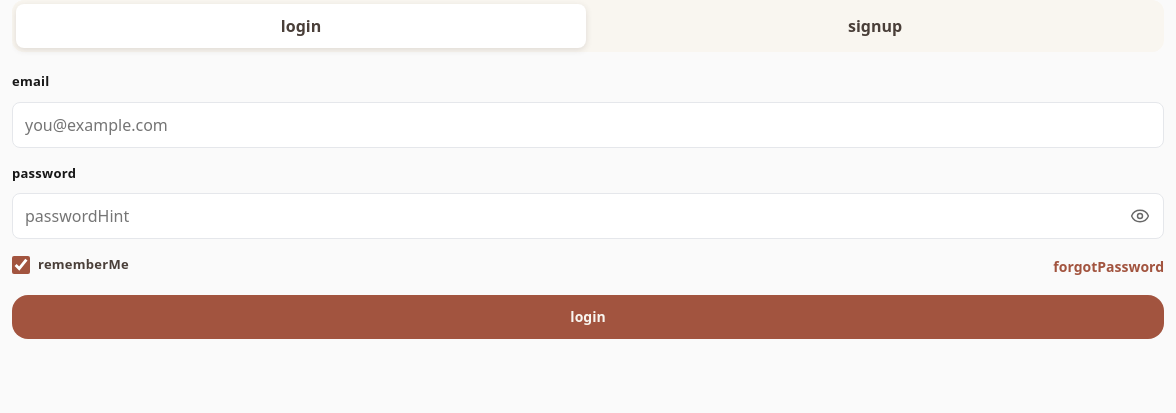
AuthForm › keeps the email filled after a failed sign-in
This screenshot has width=1176, height=413.
Type "unknown@example.com" into the field labelled "email".
click(588, 124); type("unknown@example.com")  # box [12, 102, 1164, 148]
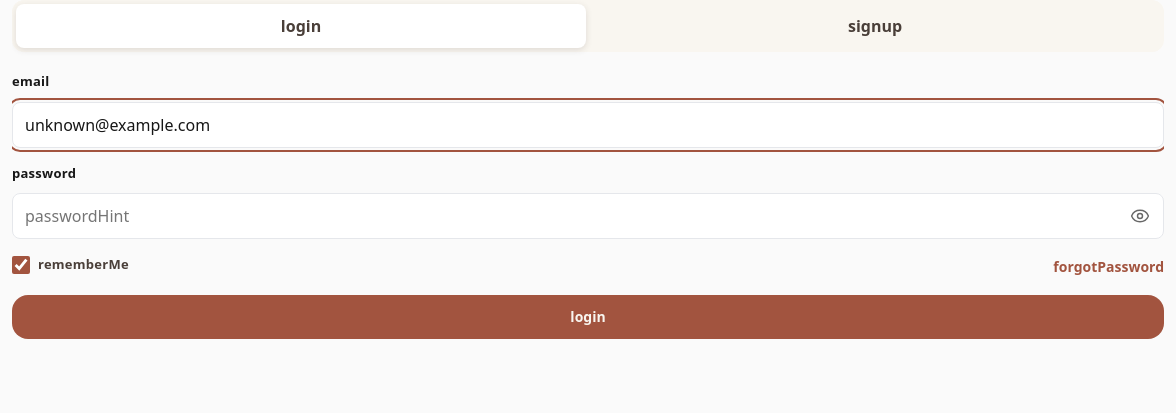
Type "secret123" into the password field labelled "password".
click(588, 216); type("secret123")  # box [12, 193, 1164, 239]
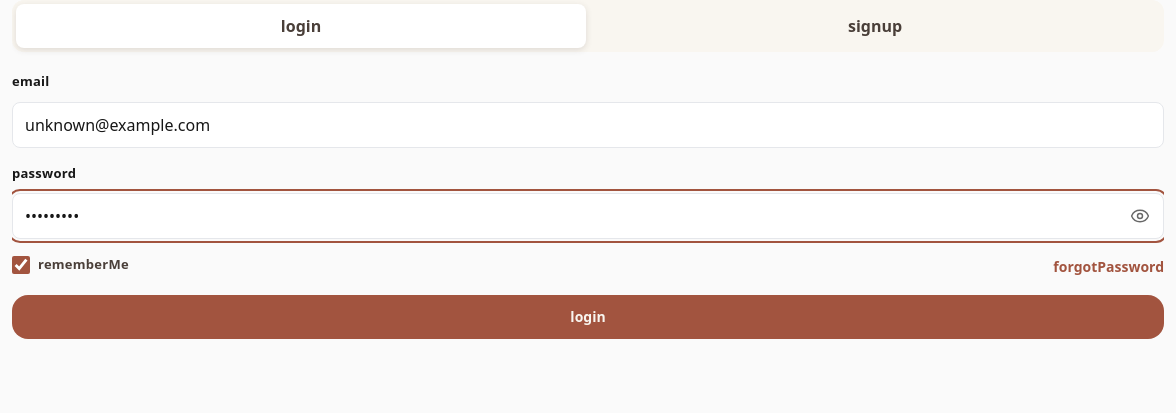
Click the button "login" below "forgotPassword".
click(588, 316)  # box [12, 294, 1164, 338]
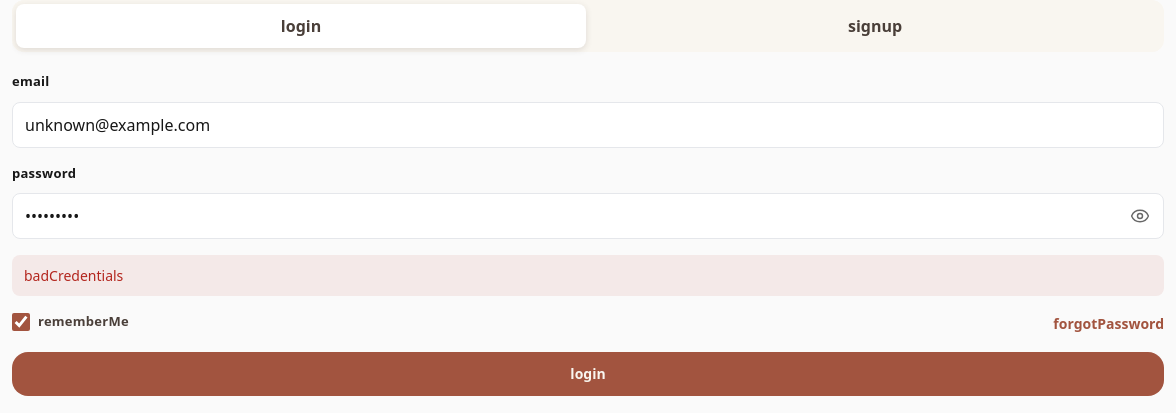
Result: the message reads "badCredentials" at [24, 266, 123, 285]
